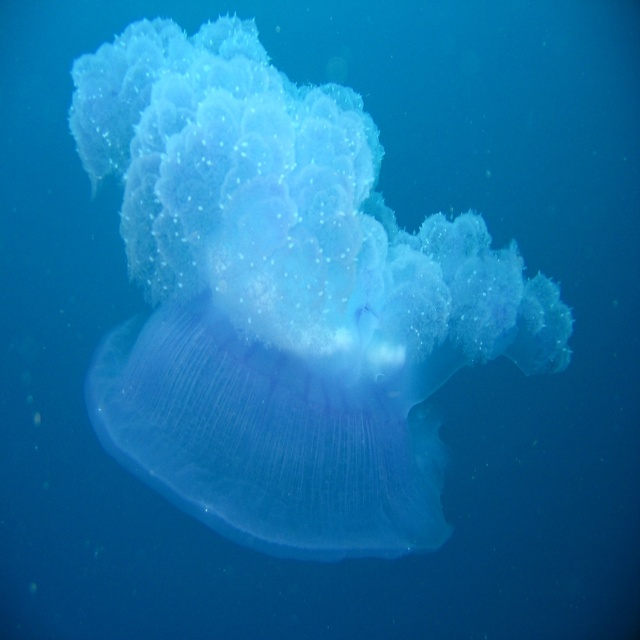Jellyfish: (62, 7, 574, 565)
